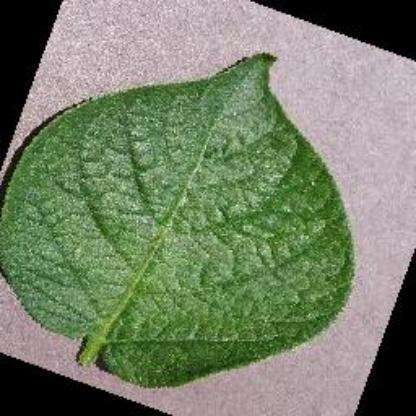Healthy-plant: (4, 47, 372, 389)
